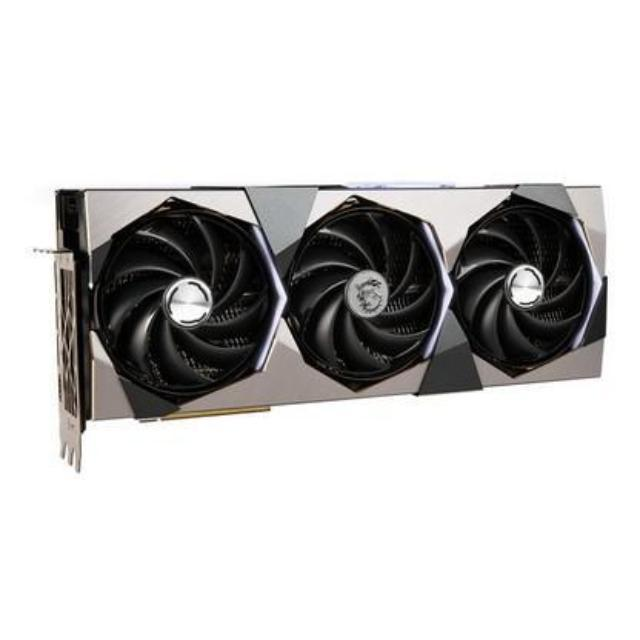GPU: (50, 179, 610, 416)
